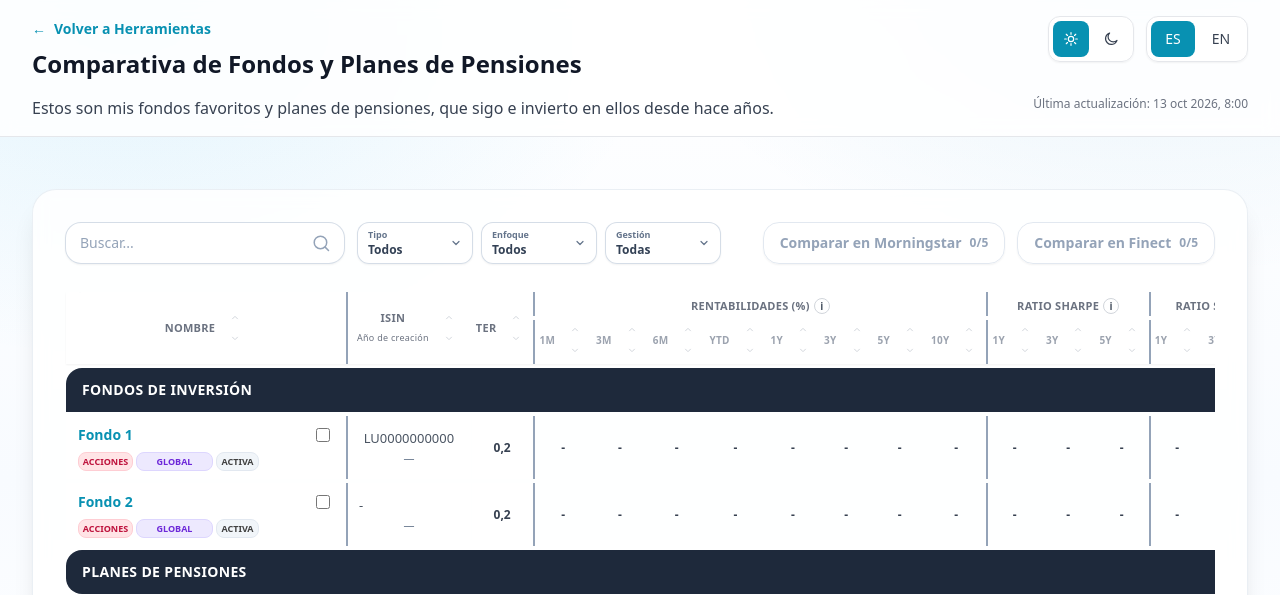
it: visible comparison feedback and selection › explains missing isin without disabling the other provider
The width and height of the screenshot is (1280, 595).
Click the checkbox named "Seleccionar para comparar: Fondo 1": (323, 435) [316,428,330,442]
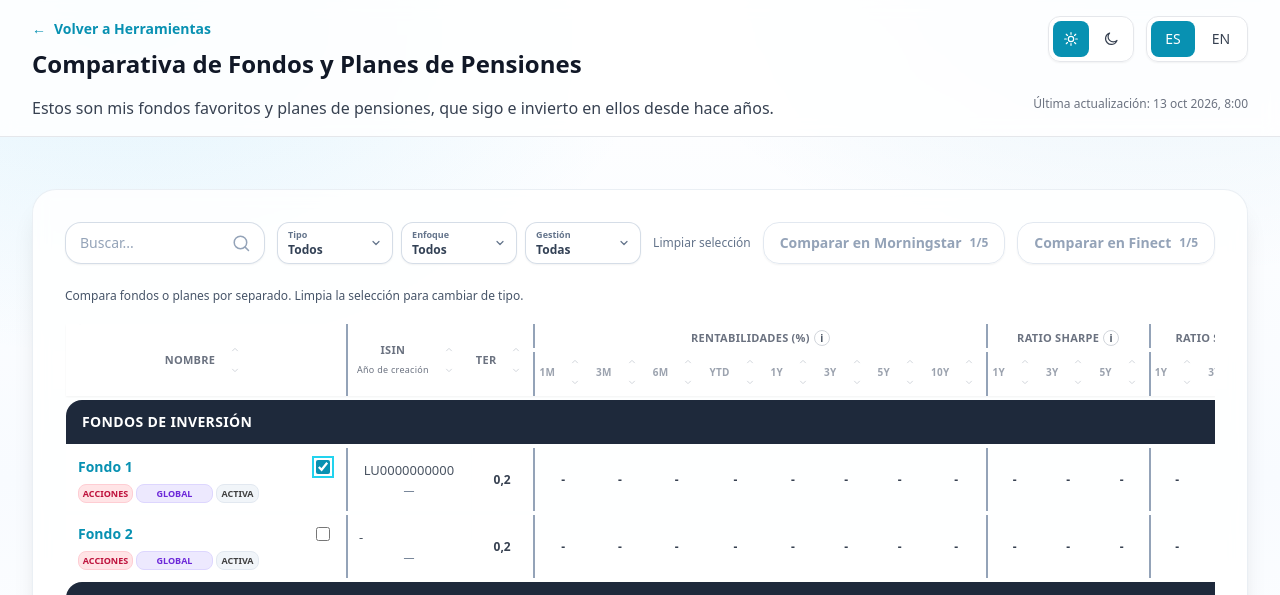
Click the checkbox named "Seleccionar para comparar: Fondo 2": (323, 534) [316,527,330,541]
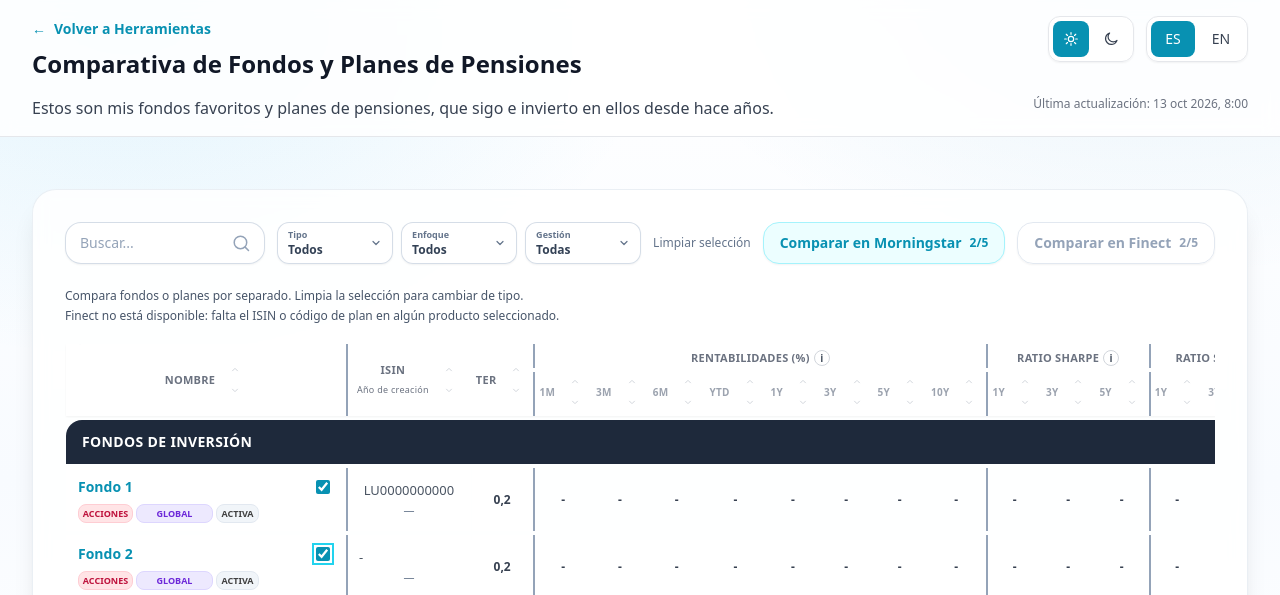
Expected: the message shows "Finect no está disponible", [65,307,559,324]
